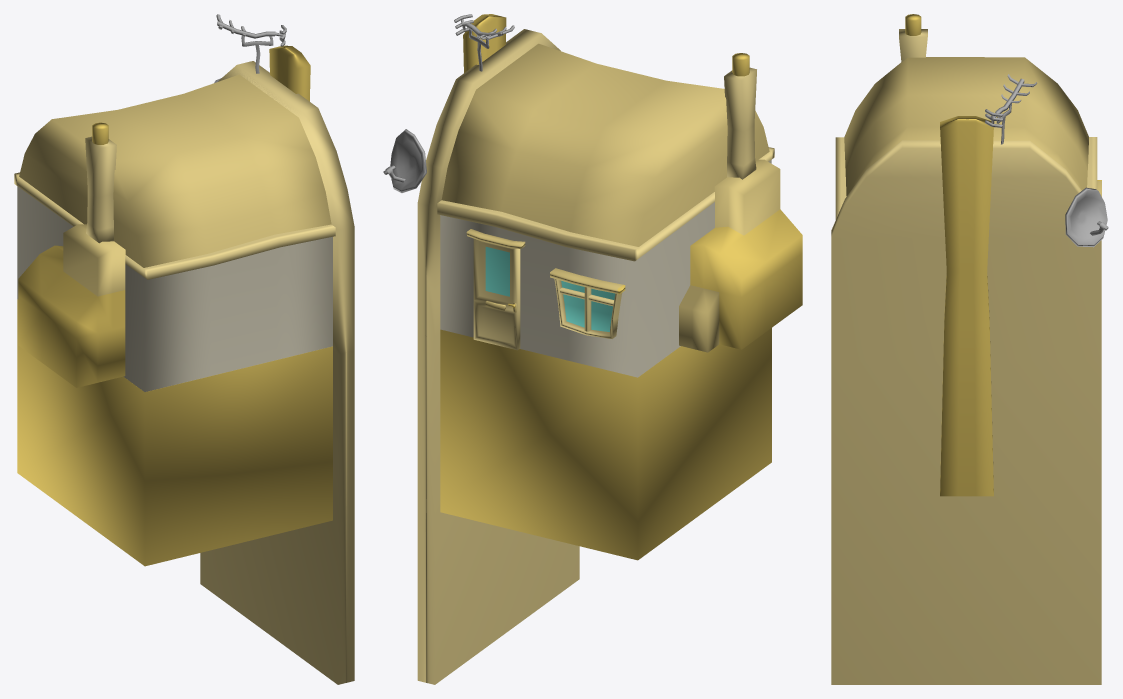
Rendered from Building_C_Test_2.fbx.
3 views of the same model, side by side, from view 1: azimuth 30°, elevation 25°; view 2: azimuth 150°, elevation 25°; view 3: azimuth 270°, elevation 25° (orthographic). The views are drawn at different scales.
Visible parts, largest first — view 1: Building_C_Test_2; view 2: Building_C_Test_2; view 3: Building_C_Test_2.
Part boxes in pixels (<box>): Building_C_Test_2: <box>14,14,354,684</box>; Building_C_Test_2: <box>383,14,802,684</box>; Building_C_Test_2: <box>831,14,1108,684</box>.
Size of the model in its own units: 623 by 1210 by 516.
